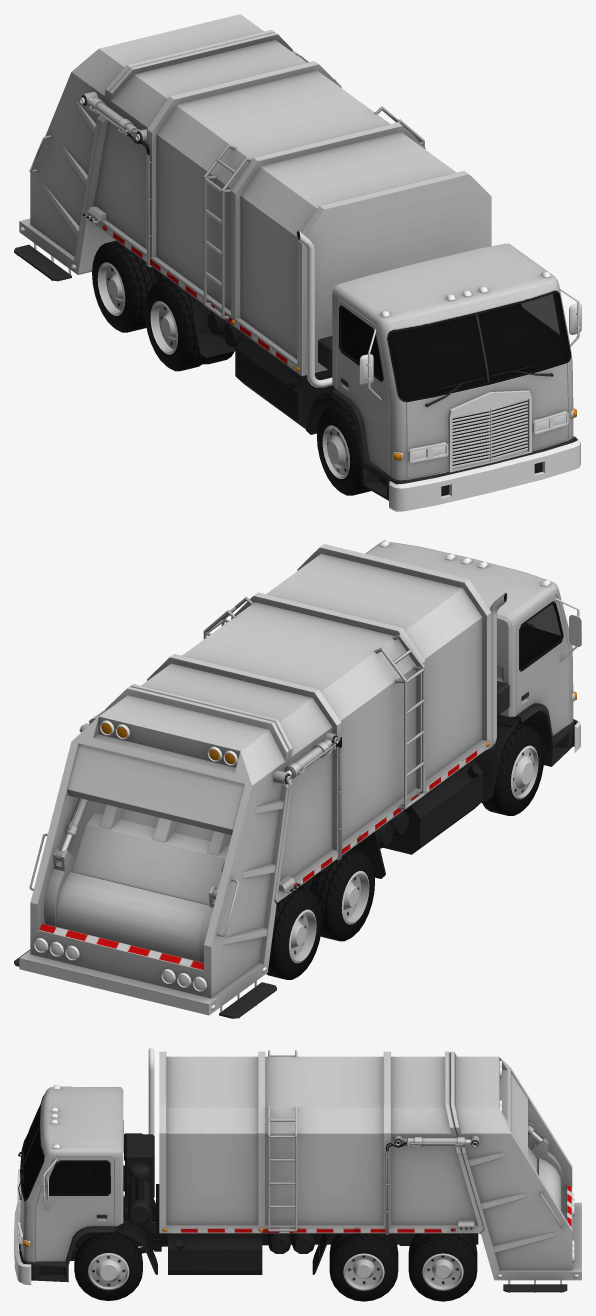
Rendered from car_service_bin_lorry.glb.
3 views of the same model, one above another, from view 1: azimuth 30°, elevation 25°; view 2: azimuth 150°, elevation 25°; view 3: azimuth 270°, elevation 25° (orthographic). The views are drawn at different scales.
Visible parts, largest first — view 1: Body, Glass, WheelRR, WheelFR, Headlights; view 2: Body, WheelRR, WheelFR, Glass, Reverselights; view 3: Body, WheelRL, WheelFL, Glass.
Boxes of the visible parts, x1=… form: Body: x1=14, y1=14, x2=581, y2=511; Glass: x1=341, y1=293, x2=568, y2=399; WheelRR: x1=92, y1=240, x2=234, y2=371; WheelFR: x1=317, y1=404, x2=370, y2=495; Headlights: x1=380, y1=271, x2=566, y2=460; Body: x1=14, y1=542, x2=581, y2=1018; WheelRR: x1=266, y1=849, x2=374, y2=979; WheelFR: x1=482, y1=723, x2=544, y2=815; Glass: x1=520, y1=604, x2=560, y2=668; Reverselights: x1=35, y1=940, x2=266, y2=1009; Body: x1=14, y1=1047, x2=581, y2=1292; WheelRL: x1=329, y1=1233, x2=477, y2=1301; WheelFL: x1=74, y1=1232, x2=142, y2=1300; Glass: x1=22, y1=1106, x2=108, y2=1198.
Size of the model in its own units: 3.22 by 3.48 by 9.4.
6 materials, 2 textured.
